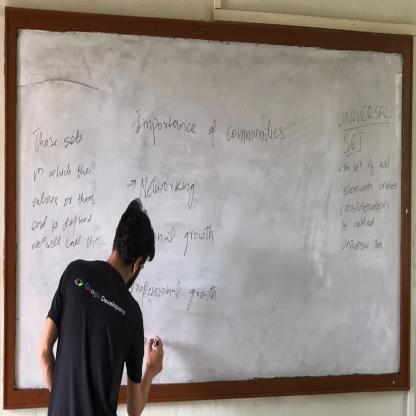Handwritten text: (133, 104, 286, 164), (129, 272, 220, 323), (147, 220, 218, 260), (139, 172, 200, 213), (26, 159, 94, 191), (32, 121, 85, 157), (29, 237, 103, 261), (31, 187, 96, 214), (28, 214, 97, 237), (332, 100, 388, 127), (334, 196, 394, 217), (341, 156, 393, 176), (341, 235, 383, 259), (333, 179, 399, 194), (342, 128, 368, 156), (335, 217, 379, 232)
Lecturer: (47, 189, 165, 416)
Whiteboard: (10, 21, 407, 398)
